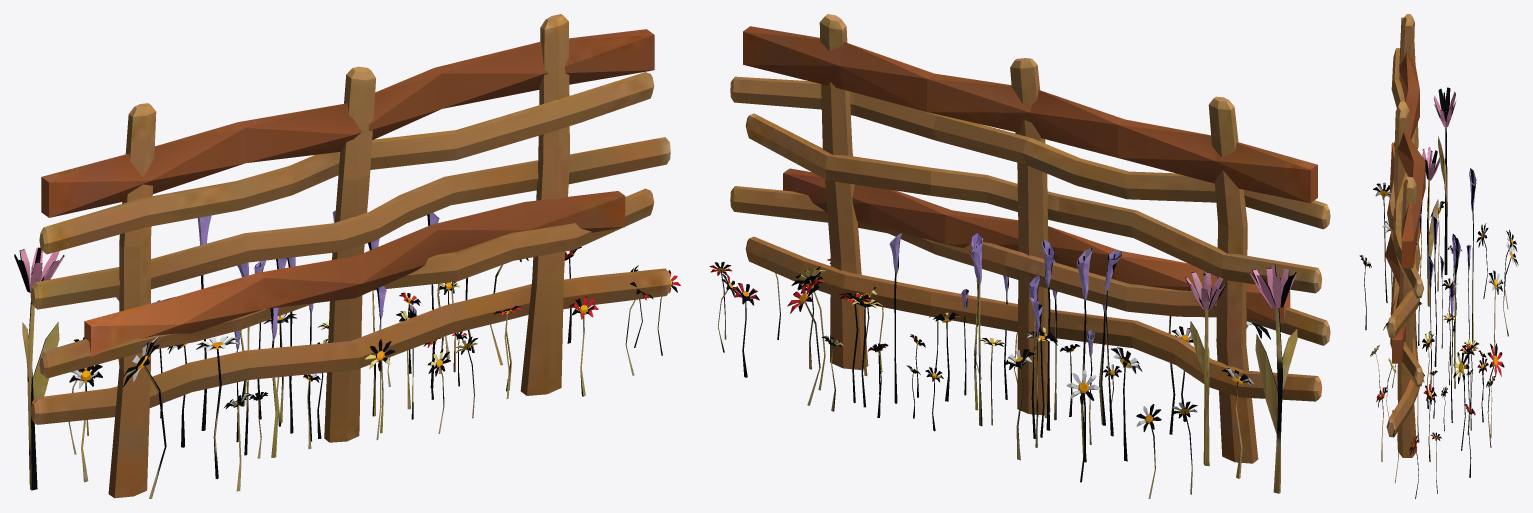
File: fence_flower_lattice.glb
3 renders of one model, left to right at view 1: azimuth 30°, elevation 25°; view 2: azimuth 150°, elevation 25°; view 3: azimuth 270°, elevation 25°, orthographic. The views are drawn at different scales.
Visible parts, largest first — view 1: fence_flower_lattice; view 2: fence_flower_lattice; view 3: fence_flower_lattice.
Part boxes in pixels (<box>): fence_flower_lattice: <box>14,14,680,498</box>; fence_flower_lattice: <box>709,14,1330,498</box>; fence_flower_lattice: <box>1359,14,1518,498</box>.
Bounding box in the file's own units: 1.07 × 0.6 × 0.3.
Materials: 1 (1 with a texture image).
